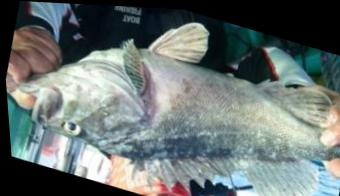fish: (13, 19, 340, 196)
